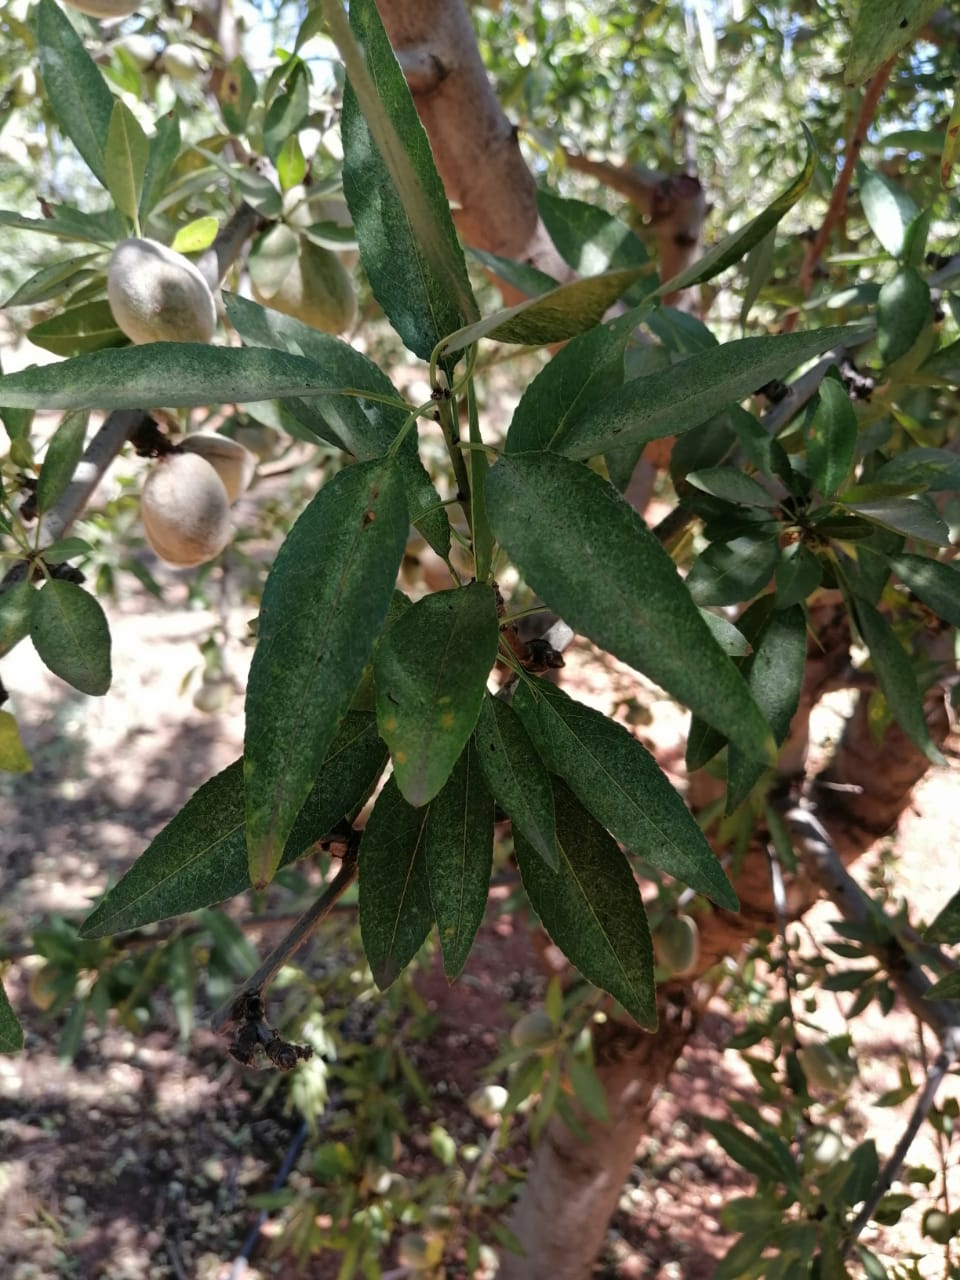acariens: (482, 449, 783, 771), (242, 457, 413, 890), (336, 1, 479, 372), (537, 695, 745, 917), (561, 322, 886, 460), (1, 342, 357, 411)
